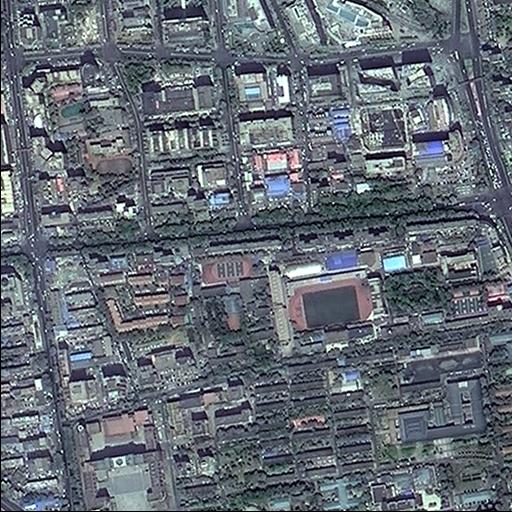school: (284, 235, 512, 344), (46, 79, 131, 140)
